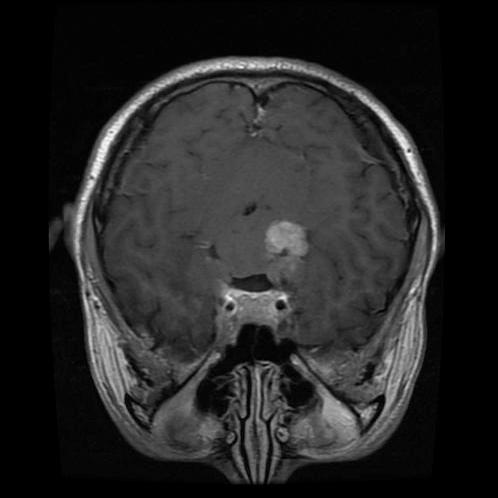Tumour-Meningioma: (254, 206, 323, 276)
